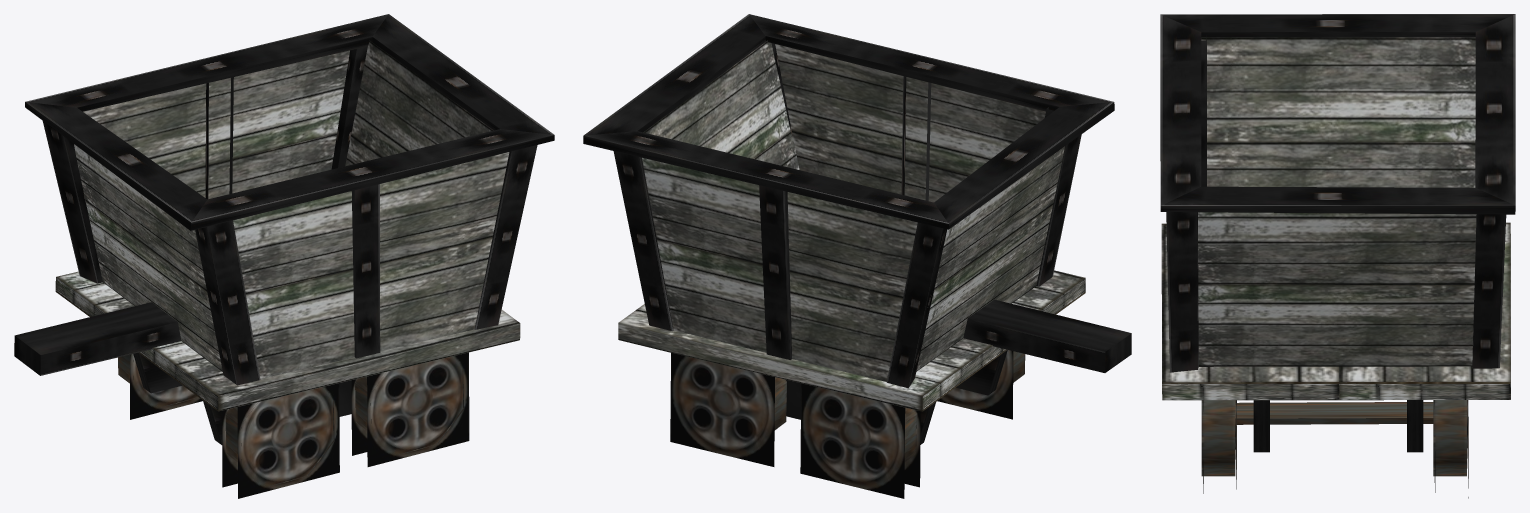
Rendered from pir_m_prp_mng_cartEmpty.fbx.
3 views of the same model, side by side, from view 1: azimuth 30°, elevation 25°; view 2: azimuth 150°, elevation 25°; view 3: azimuth 270°, elevation 25° (orthographic). The views are drawn at different scales.
Visible parts, largest first — view 1: sides1, sides5, sides3, sides2, spokes1, spokes5, sides4, wood15, wood11, wood4, wood14, wood2 (+13 smaller); view 2: sides5, sides1, sides3, sides2, sides4, spokes4, spokes8, wood11, wood15, wood4, wood14, wood13 (+11 smaller); view 3: sides4, sides3, sides2, wood13, wood14, wood15, wood11, wood12, wood16, pCube4, wheel4, wheel5 (+3 smaller).
Boxes of the visible parts, left/top/right/bottom form: sides1: left=233, top=152, right=509, bottom=378; sides5: left=83, top=50, right=349, bottom=198; sides3: left=74, top=144, right=222, bottom=371; sides2: left=55, top=271, right=520, bottom=411; spokes1: left=237, top=383, right=339, bottom=498; spokes5: left=367, top=352, right=469, bottom=466; sides4: left=345, top=40, right=493, bottom=166; wood15: left=190, top=129, right=554, bottom=230; wood11: left=25, top=14, right=388, bottom=111; wood4: left=14, top=302, right=181, bottom=375; wood14: left=25, top=102, right=207, bottom=230; wood2: left=195, top=220, right=260, bottom=385; sides5: left=642, top=157, right=917, bottom=381; sides1: left=775, top=44, right=1045, bottom=202; sides3: left=916, top=146, right=1064, bottom=371; sides2: left=618, top=270, right=1085, bottom=411; sides4: left=643, top=40, right=799, bottom=169; spokes4: left=800, top=383, right=905, bottom=498; spokes8: left=670, top=353, right=774, bottom=466; wood11: left=583, top=131, right=948, bottom=229; wood15: left=749, top=14, right=1113, bottom=111; wood4: left=963, top=299, right=1131, bottom=372; wood14: left=934, top=102, right=1114, bottom=229; wood13: left=584, top=14, right=765, bottom=135; sides4: left=1198, top=212, right=1476, bottom=366; sides3: left=1201, top=37, right=1475, bottom=187; sides2: left=1161, top=222, right=1510, bottom=400; wood13: left=1160, top=186, right=1515, bottom=214; wood14: left=1161, top=14, right=1514, bottom=37; wood15: left=1160, top=14, right=1201, bottom=205; wood11: left=1475, top=14, right=1515, bottom=205; wood12: left=1166, top=212, right=1198, bottom=372; wood16: left=1472, top=214, right=1506, bottom=368; pCube4: left=1235, top=402, right=1433, bottom=424; wheel4: left=1201, top=400, right=1235, bottom=476; wheel5: left=1433, top=400, right=1466, bottom=476.
Bounding box in the file's own units: 557 × 365 × 357.
2 materials, 2 textured.
